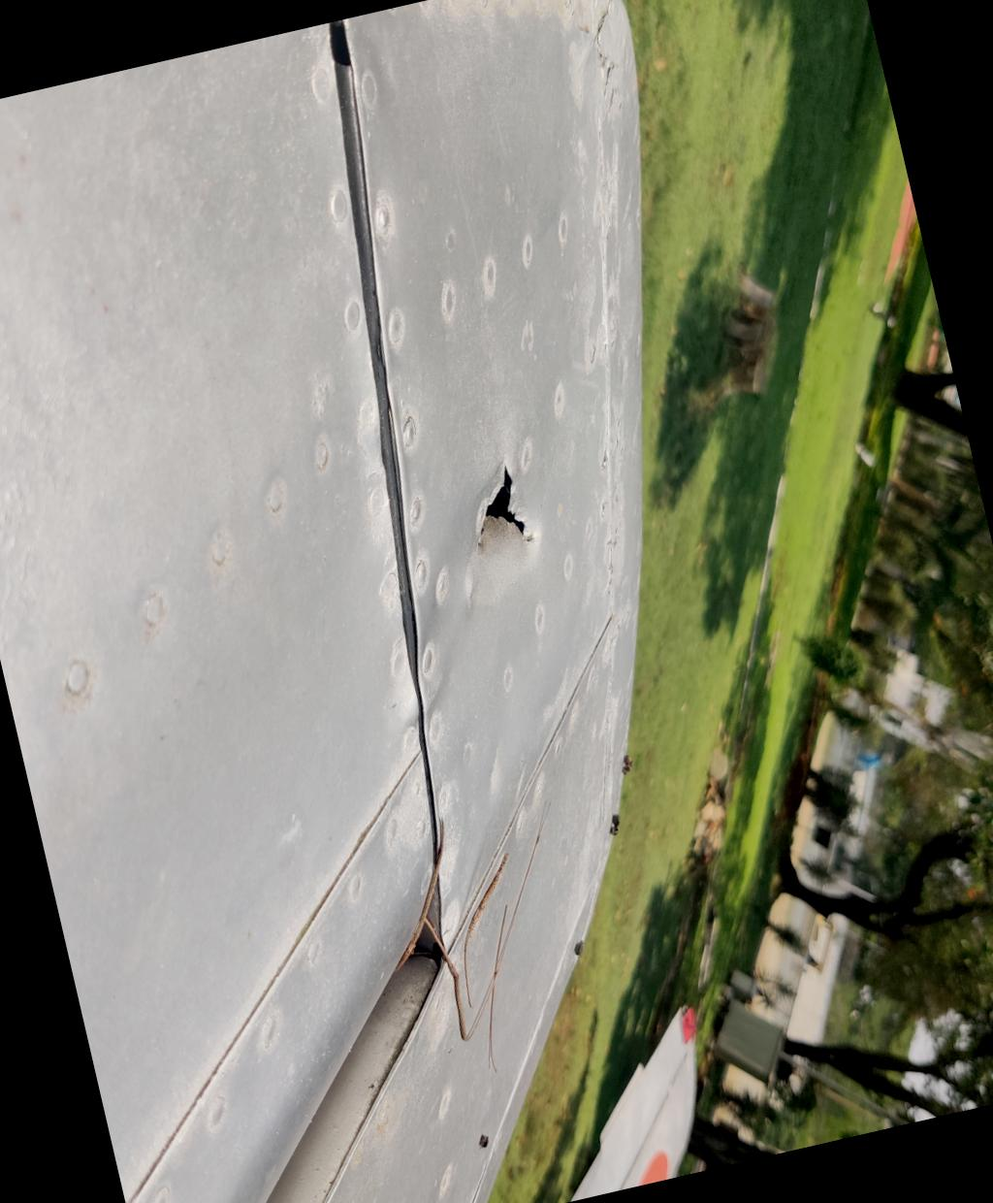crack: (434, 593, 564, 726)
